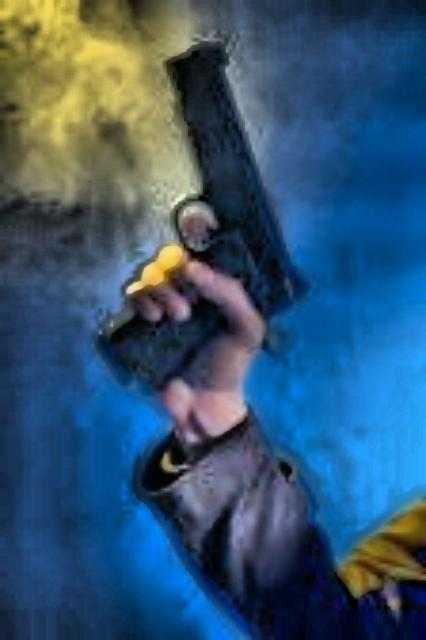pistol: (66, 27, 313, 377)
